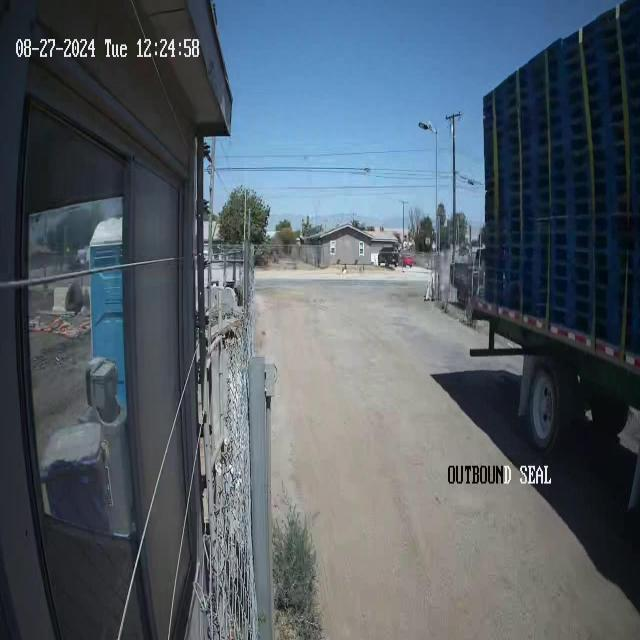TRUCK_IN: (468, 1, 639, 452)
